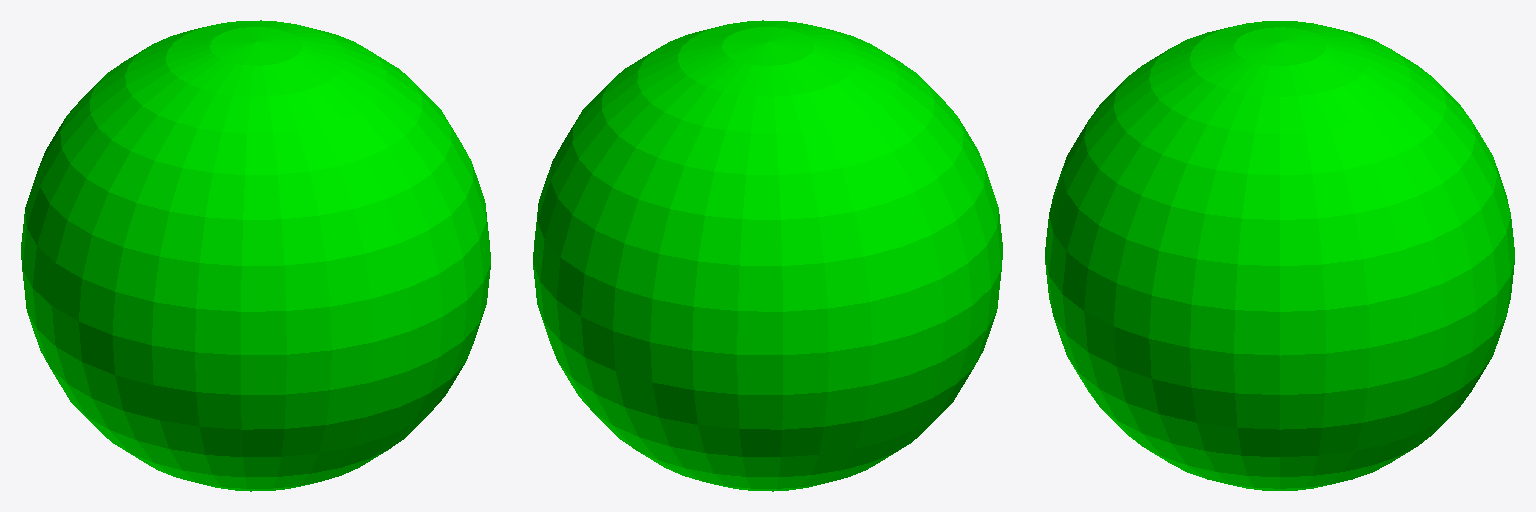
URDF robot description (goal):
<?xml version="1.0"?> 
<robot name="goal">
    <!-- Colors --> 
    <material name="green">
        <color rgba="0 0.925 0 1"/>
    </material>

    <!-- Goal -->
    <link name="base_link">
        <visual>
            <geometry>
                <sphere radius="0.1"/>
                <origin rpy="0 0 0" xyz="0 0 0.5"/>
            </geometry>
            <material name="green"/>
        </visual>
        <inertial> 
            <mass value="0"/>
            <inertia ixx="0" ixy="0" ixz="0" iyy="0" iyz="0" izz="0"/>
        </inertial> 
    </link>
</robot>

--- What the picture shows (computed from the rendered views, not written in the file) ---
The picture shows the robot from 3 angles, left to right: view 1: azimuth 30°, elevation 25°; view 2: azimuth 150°, elevation 25°; view 3: azimuth 270°, elevation 25°; orthographic projection.
Model goal with 1 links and 0 joints (none), rooted at base_link, posed all joints at 0.
Links seen in each view (by area): view 1: base_link; view 2: base_link; view 3: base_link.
Link boxes in pixels (left/top/right/bottom): base_link: left=21, top=20, right=490, bottom=491; base_link: left=533, top=20, right=1002, bottom=491; base_link: left=1045, top=21, right=1514, bottom=490.
Size in the robot's own frame: 0.2 by 0.2 by 0.2 metres.
Geometry: primitives only (box / cylinder / sphere), no mesh files.